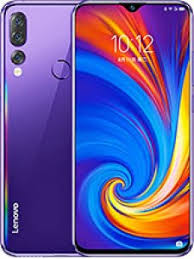lenovo: (69, 1, 192, 258)
